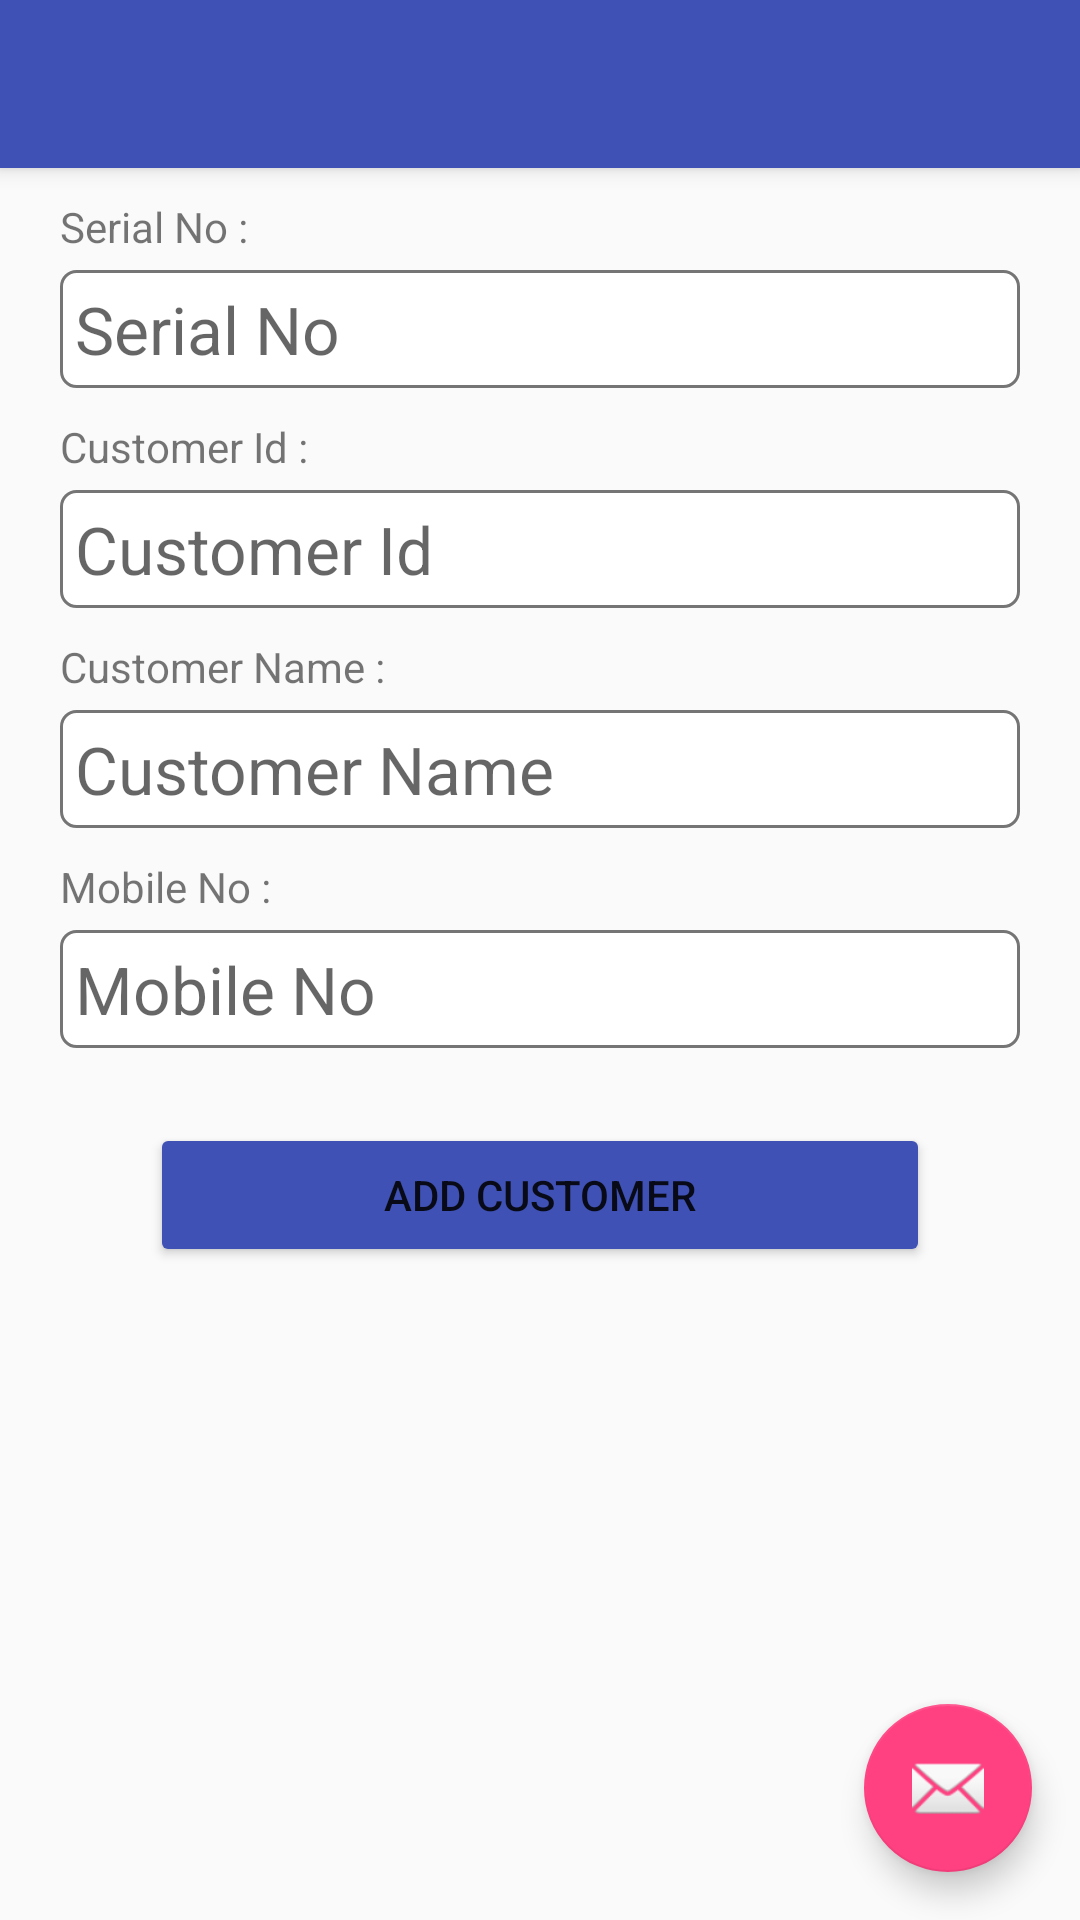

Icons on this 1080 x 1920 Android screen, each with its box as (left=x1, top=y1, right=x2, bottom=y2):
email: (left=864, top=1704, right=1032, bottom=1872)
